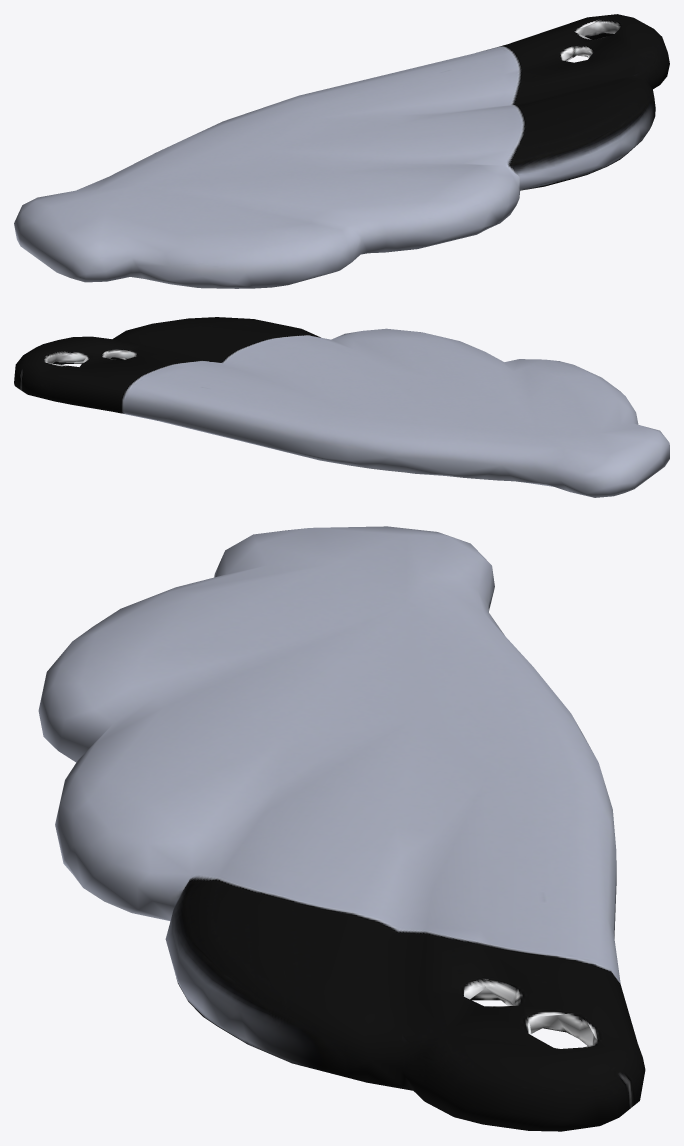
File: Item_SeagullWing.fbx
3 views of the same model, one above another, from view 1: azimuth 30°, elevation 25°; view 2: azimuth 150°, elevation 25°; view 3: azimuth 270°, elevation 25° (orthographic). The views are drawn at different scales.
Visible parts, largest first — view 1: Item_SeagullWing; view 2: Item_SeagullWing; view 3: Item_SeagullWing.
Boxes of the visible parts, x1=… form: Item_SeagullWing: x1=14, y1=14, x2=669, y2=288; Item_SeagullWing: x1=14, y1=317, x2=669, y2=497; Item_SeagullWing: x1=38, y1=526, x2=645, y2=1131.
Size of the model in its own units: 0.85 by 0.0427 by 0.3858.
Materials: 1 (1 with a texture image).
